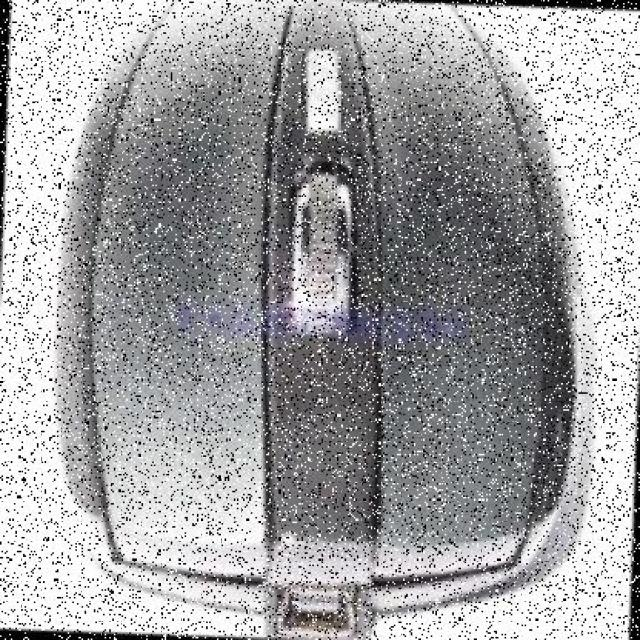mause: (61, 0, 640, 638)
